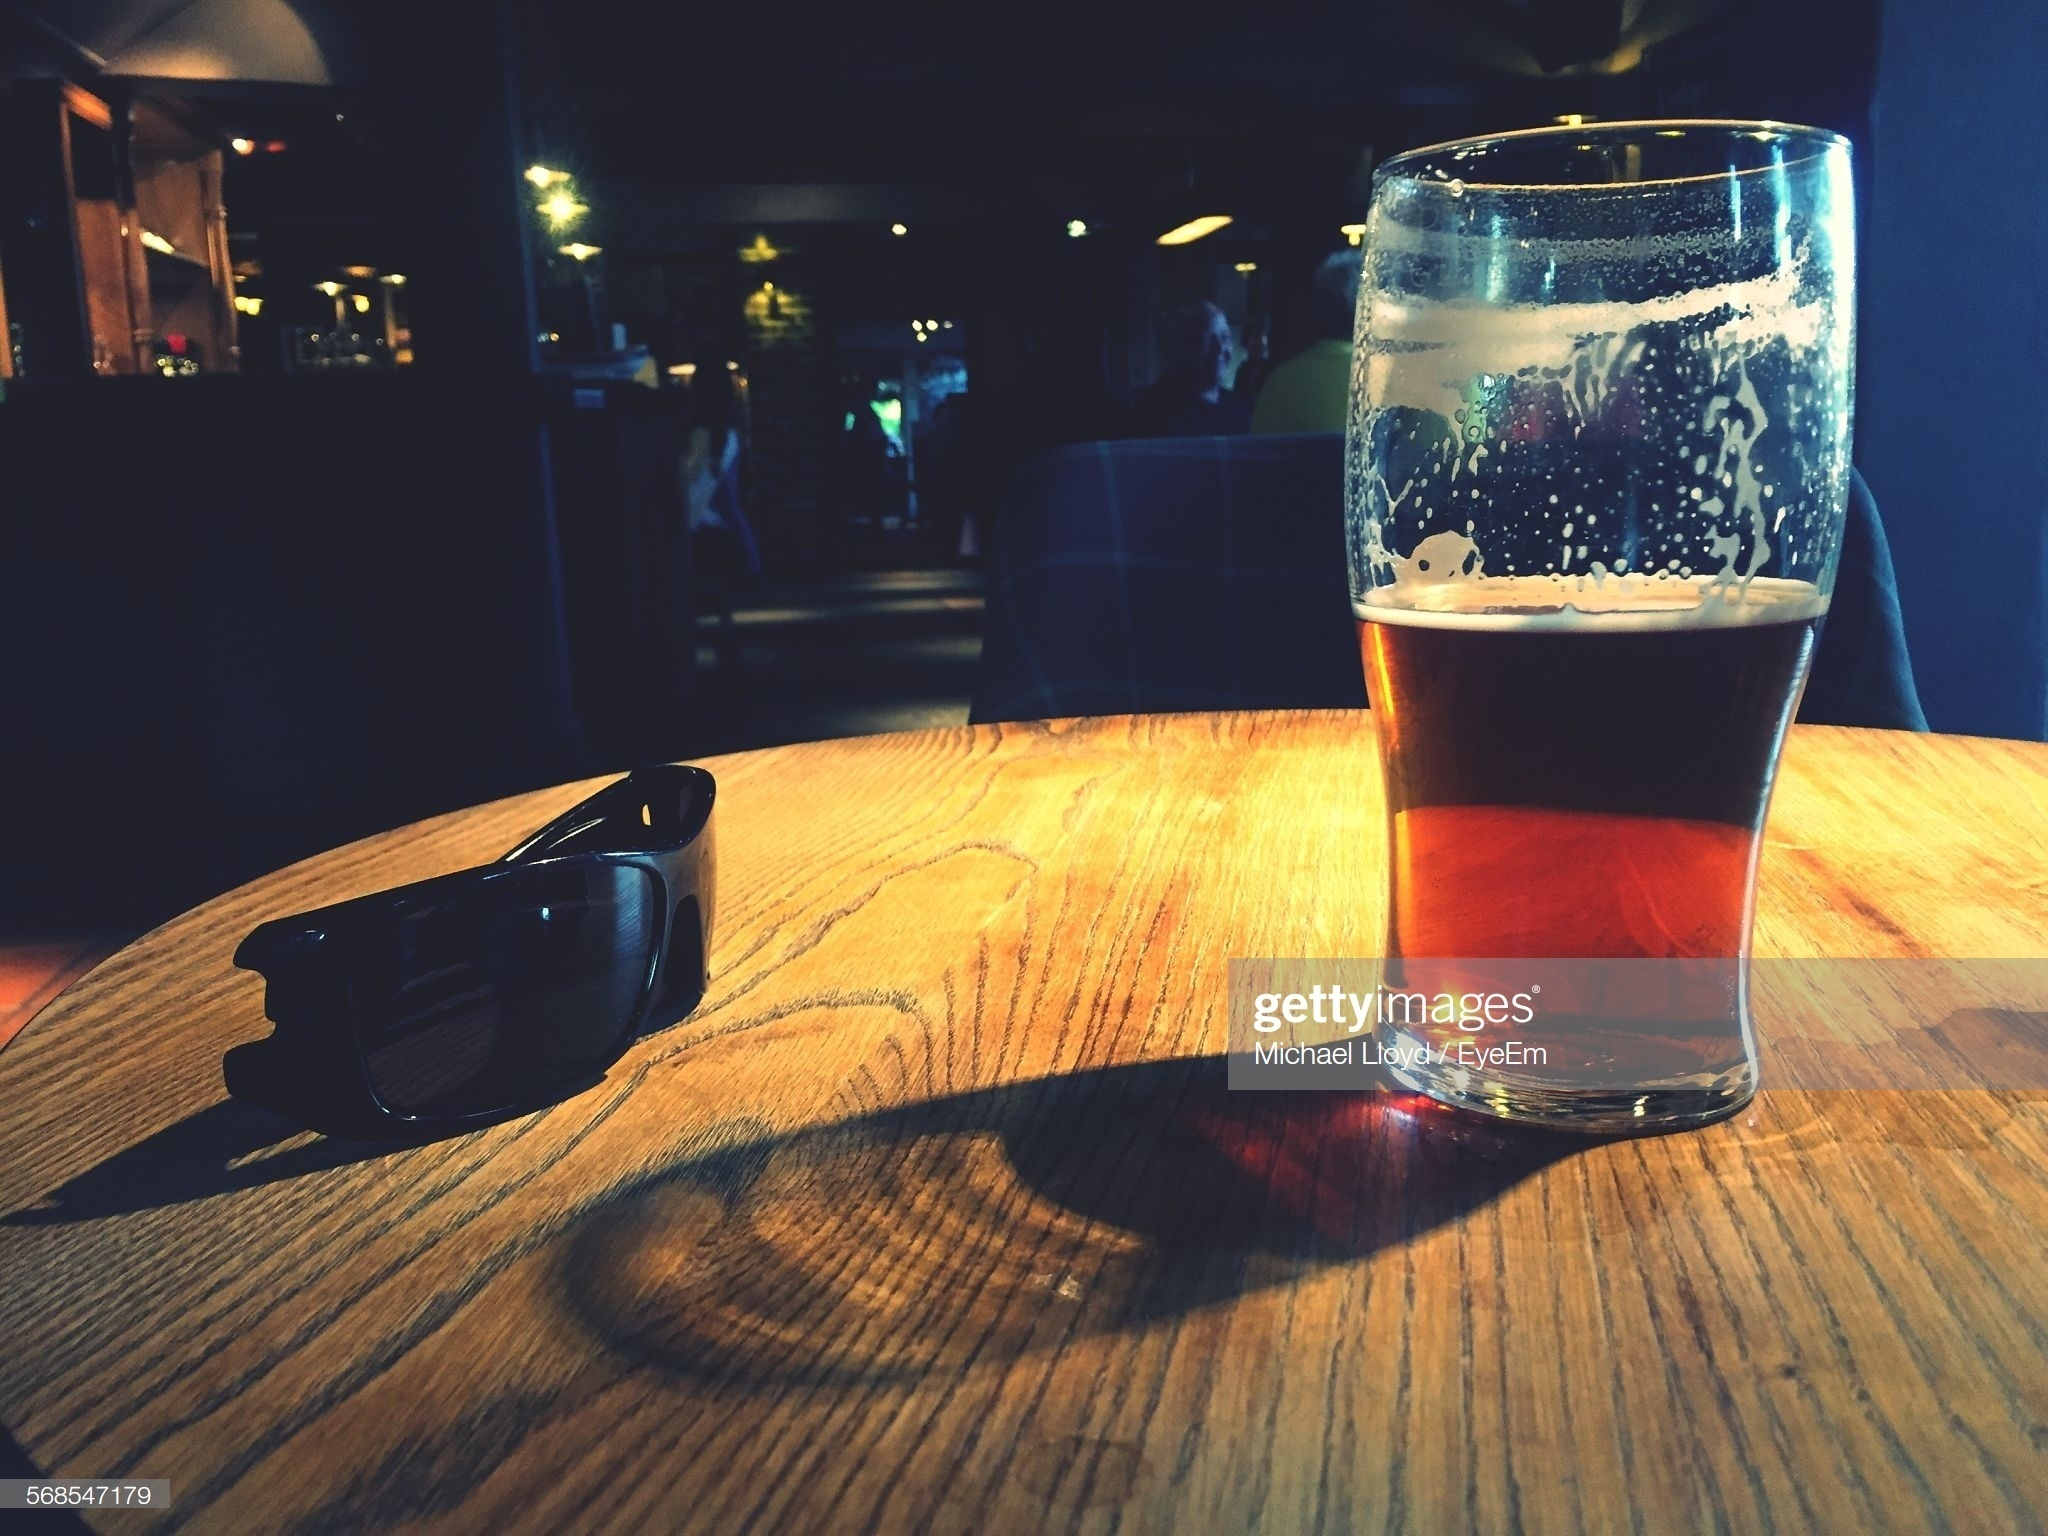whiskey: (1314, 89, 1863, 1128)
